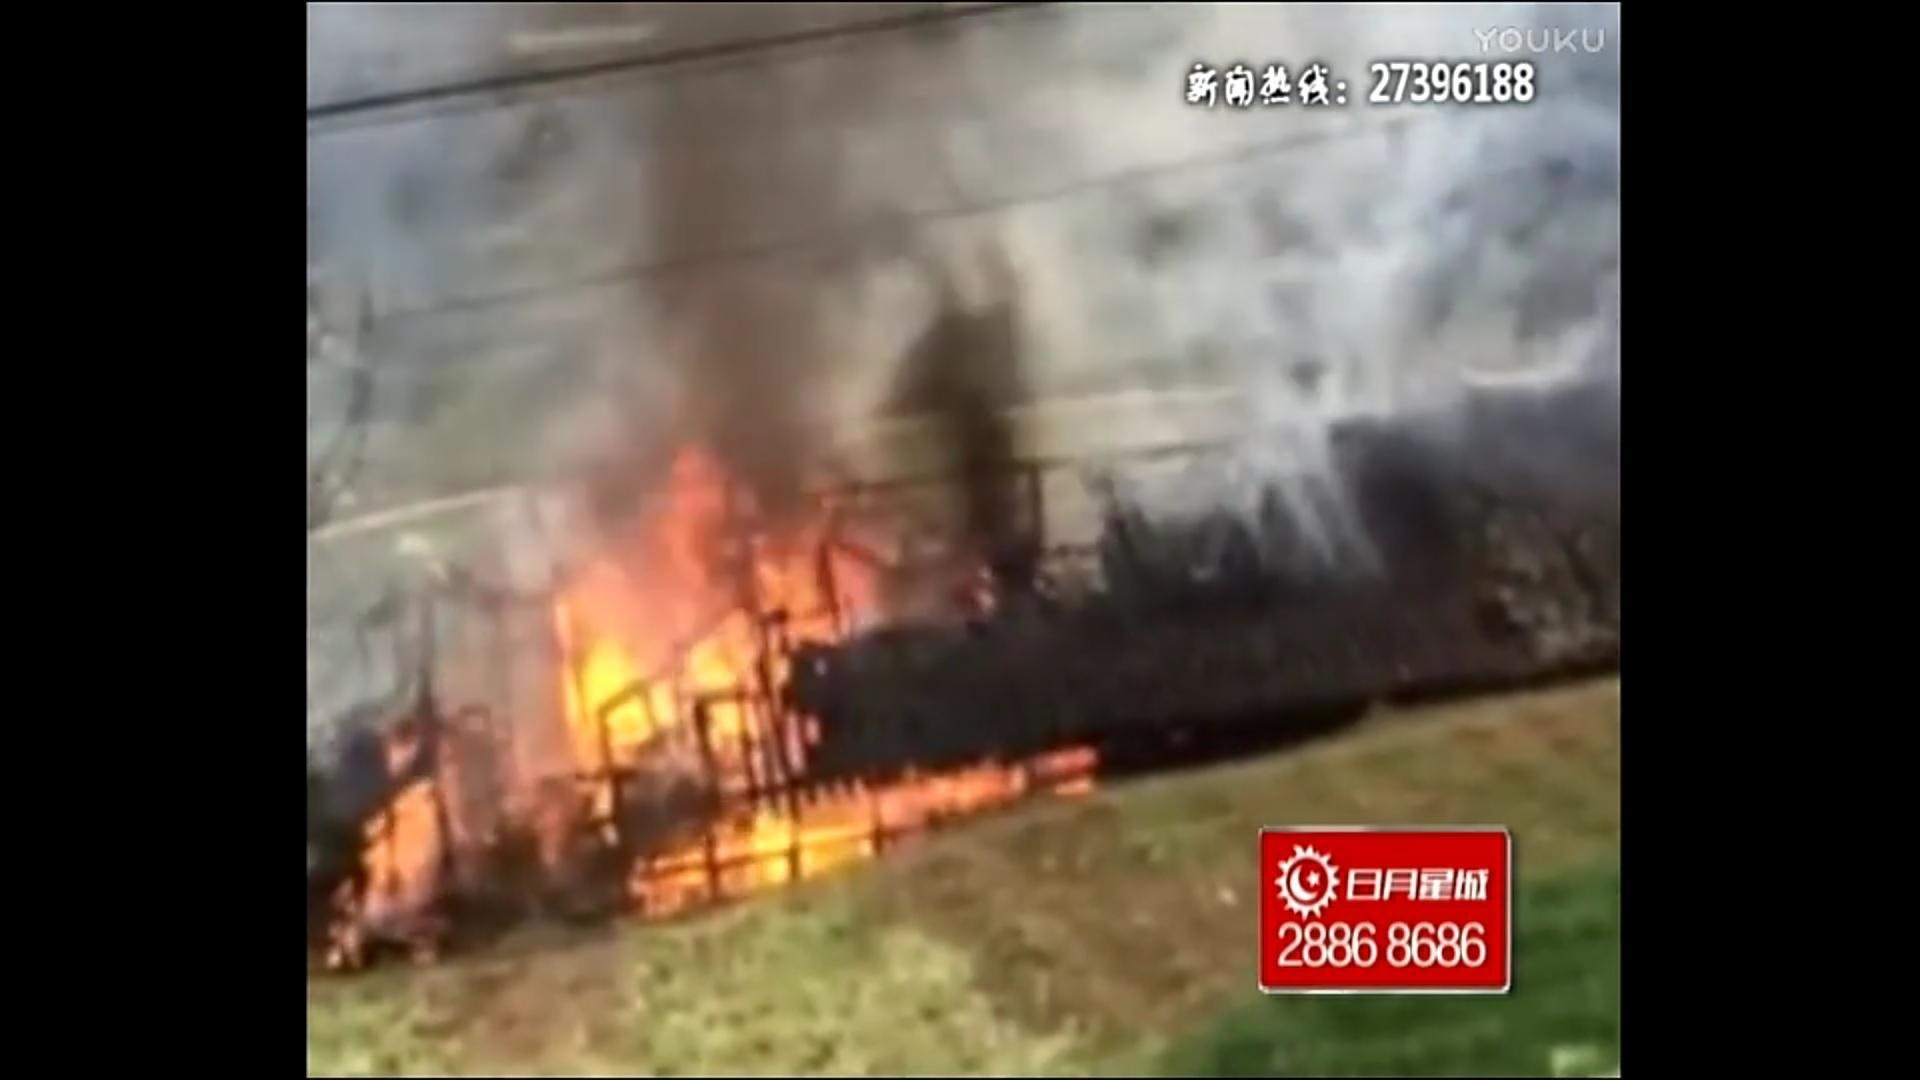fire: (541, 464, 887, 902)
